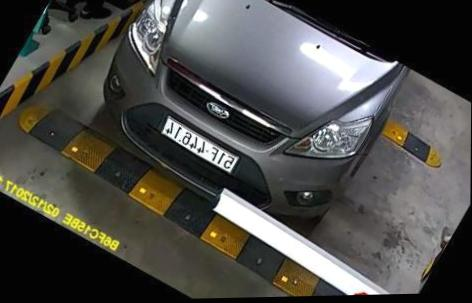License_Plate: (153, 116, 243, 180)
